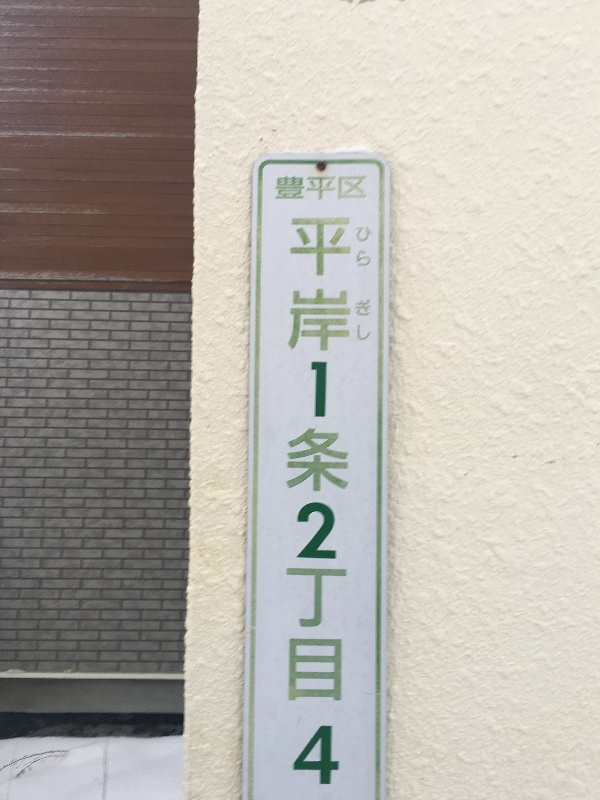text: (305, 218, 320, 790), (321, 218, 336, 790), (337, 218, 352, 790), (293, 218, 304, 790), (356, 296, 368, 342), (357, 226, 368, 268), (289, 175, 304, 201), (305, 175, 320, 201), (321, 175, 336, 201), (337, 175, 352, 201), (353, 175, 368, 201), (275, 175, 288, 201), (369, 296, 373, 342), (369, 226, 373, 268)
